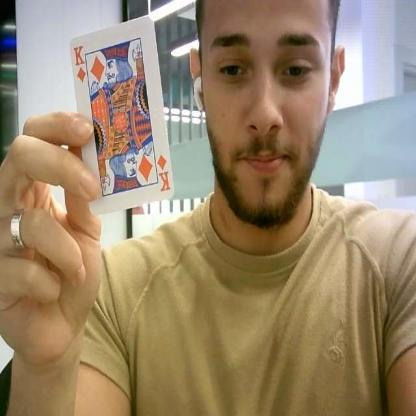KD: (73, 42, 86, 86), (156, 152, 168, 194)
